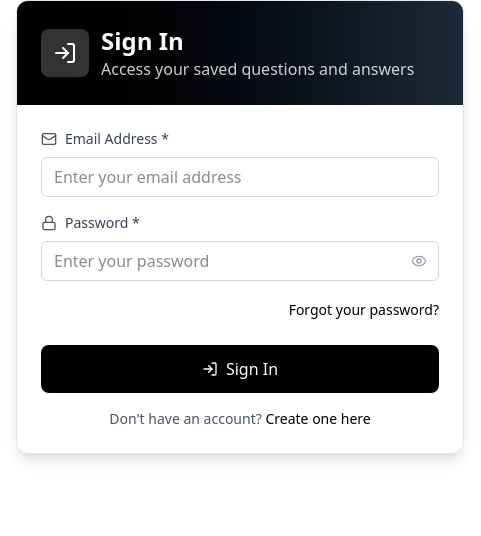
Test: SignInForm › Form Validation › clears field errors when user starts typing
# Trigger validation error
Step 1. Click the button with test id "signin-button" → [240, 369], box [41,345,439,393]
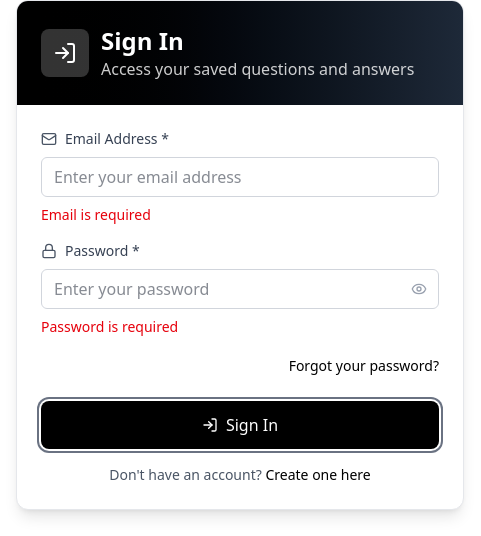
Now the text "Email is required" is shown, box [41,205,151,224]
# Start typing to clear error
Step 2. Type "test@example.com" into the field with test id "email-input" → [240, 177], box [41,157,439,197]
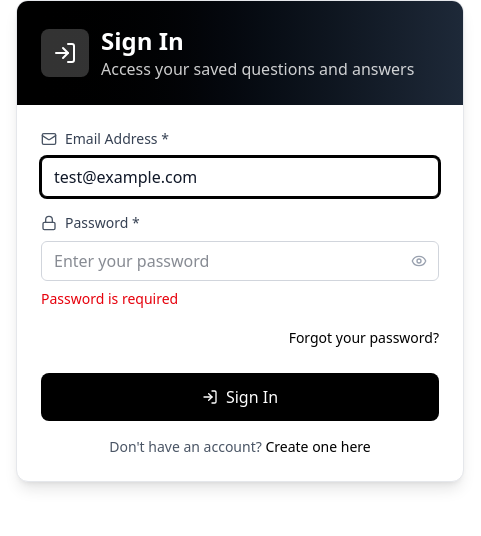
Now the text with test id "email-error" is gone
